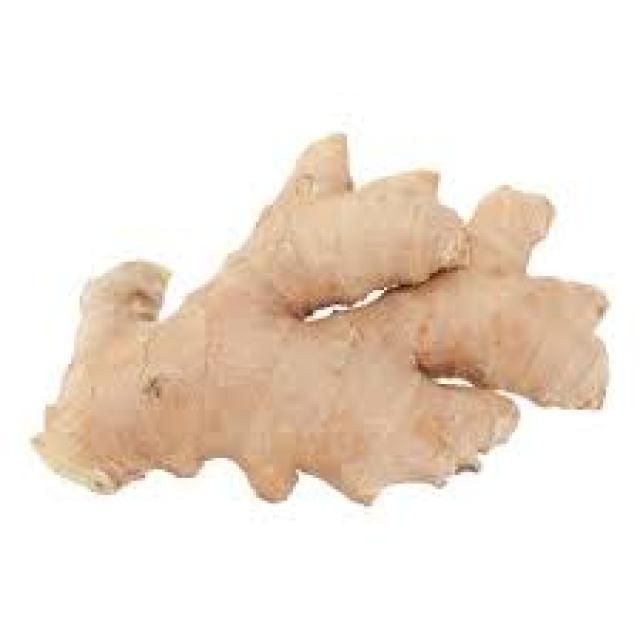ginger-root: (25, 117, 619, 535)
